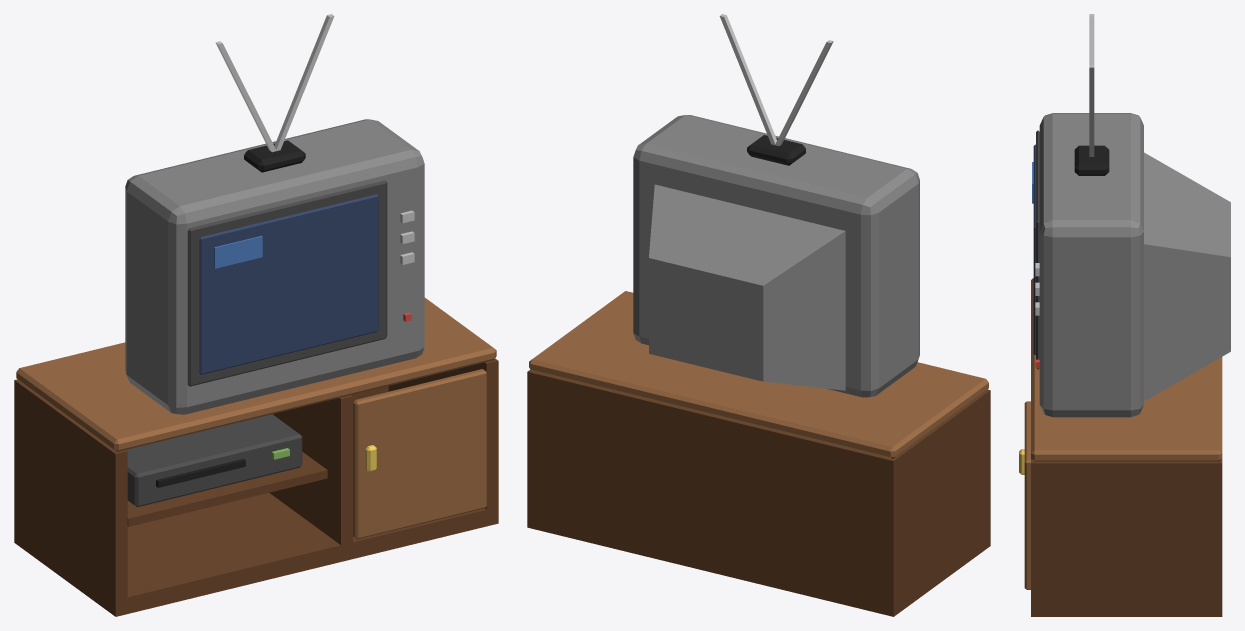
File: crt_tv.glb
The picture shows the model from 3 angles, left to right: view 1: azimuth 30°, elevation 25°; view 2: azimuth 150°, elevation 25°; view 3: azimuth 270°, elevation 25°; orthographic projection. The views are drawn at different scales.
Visible parts, largest first — view 1: crt_tv; view 2: crt_tv; view 3: crt_tv.
Boxes of the visible parts, <box> form: crt_tv: <box>14,14,498,616</box>; crt_tv: <box>527,14,990,616</box>; crt_tv: <box>1019,14,1230,616</box>.
Bounding box in the file's own units: 0.96 × 1.24 × 0.4875.
Materials: 1 (1 with a texture image).
